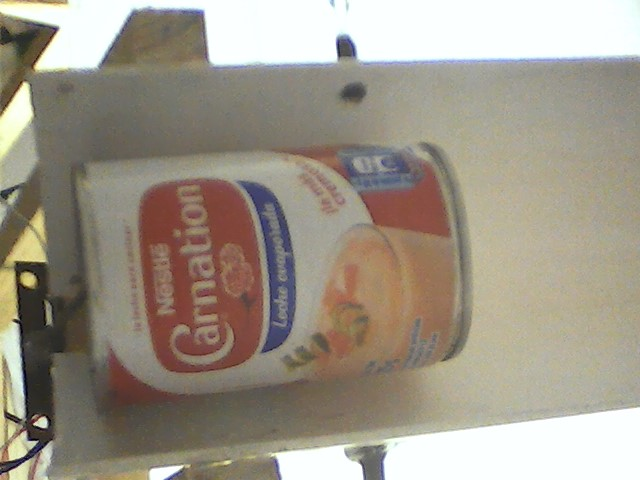lata: (66, 134, 493, 415)
